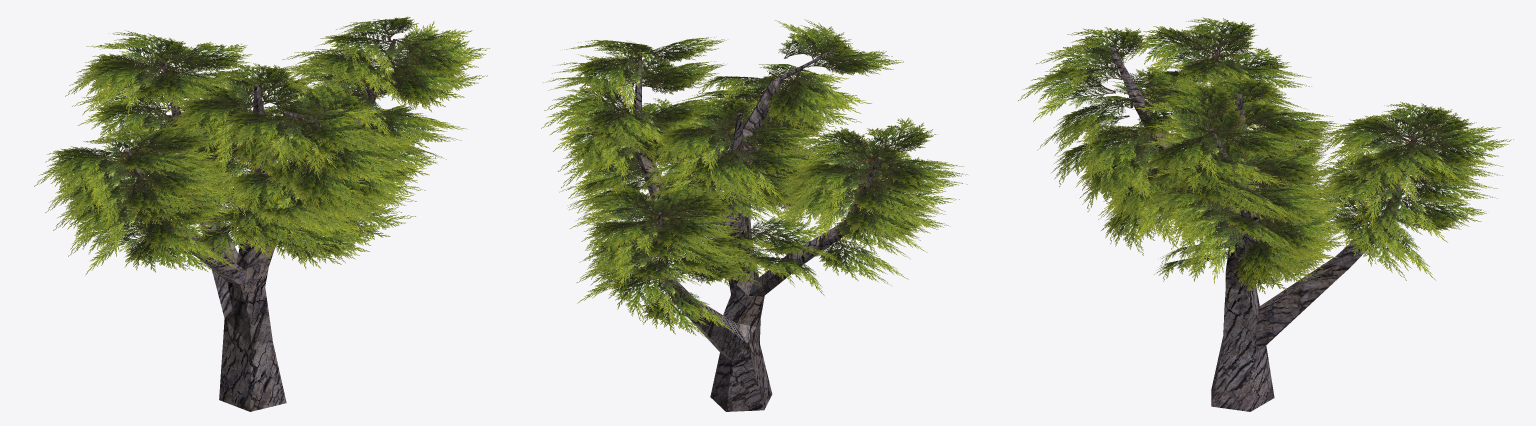
The model's file is Tree1.fbx.
The picture shows the model from 3 angles, left to right: view 1: azimuth 30°, elevation 25°; view 2: azimuth 150°, elevation 25°; view 3: azimuth 270°, elevation 25°; orthographic projection. The views are drawn at different scales.
Visible parts, largest first — view 1: Cylinder, Plane.119, Plane.007, Plane.033, Plane.042, Plane.109, Plane.028, Plane.126, Plane.093, Plane.085, Plane.003, Plane.130 (+66 smaller); view 2: Cylinder, Plane.029, Plane.118, Plane.135, Plane.111, Plane.138, Plane.086, Plane.092, Plane.046, Plane.128, Plane.112, Plane.079 (+69 smaller); view 3: Cylinder, Plane.117, Plane.002, Plane.134, Plane.110, Plane.023, Plane.120, Plane.127, Plane.119, Plane.039, Plane.028, Plane.128 (+61 smaller).
Part boxes in pixels (left/top/right/bottom): Cylinder: left=126, top=40, right=395, bottom=411; Plane.119: left=393, top=28, right=489, bottom=80; Plane.007: left=295, top=106, right=390, bottom=163; Plane.033: left=290, top=152, right=397, bottom=208; Plane.042: left=389, top=52, right=482, bottom=109; Plane.109: left=45, top=146, right=127, bottom=203; Plane.028: left=218, top=111, right=301, bottom=167; Plane.126: left=82, top=58, right=165, bottom=116; Plane.093: left=141, top=150, right=233, bottom=199; Plane.085: left=174, top=97, right=256, bottom=154; Plane.003: left=315, top=126, right=409, bottom=183; Plane.130: left=89, top=102, right=170, bottom=149; Cylinder: left=631, top=49, right=881, bottom=411; Plane.029: left=765, top=70, right=860, bottom=129; Plane.118: left=570, top=55, right=646, bottom=115; Plane.135: left=604, top=267, right=680, bottom=325; Plane.111: left=784, top=127, right=873, bottom=172; Plane.138: left=639, top=284, right=733, bottom=339; Plane.086: left=657, top=126, right=732, bottom=177; Plane.092: left=795, top=161, right=873, bottom=214; Plane.046: left=544, top=83, right=628, bottom=134; Plane.128: left=569, top=187, right=656, bottom=228; Plane.112: left=814, top=237, right=908, bottom=285; Plane.079: left=697, top=144, right=785, bottom=208; Cylinder: left=1109, top=45, right=1416, bottom=411; Plane.117: left=1132, top=80, right=1236, bottom=130; Plane.002: left=1077, top=125, right=1158, bottom=200; Plane.134: left=1353, top=189, right=1447, bottom=248; Plane.110: left=1123, top=26, right=1218, bottom=83; Plane.023: left=1018, top=65, right=1115, bottom=121; Plane.120: left=1416, top=126, right=1513, bottom=169; Plane.127: left=1318, top=118, right=1413, bottom=172; Plane.119: left=1146, top=130, right=1224, bottom=186; Plane.039: left=1257, top=202, right=1352, bottom=258; Plane.028: left=1047, top=27, right=1149, bottom=65; Plane.128: left=1370, top=139, right=1465, bottom=187.
Bounding box in the file's own units: 1031 × 754 × 1019.
